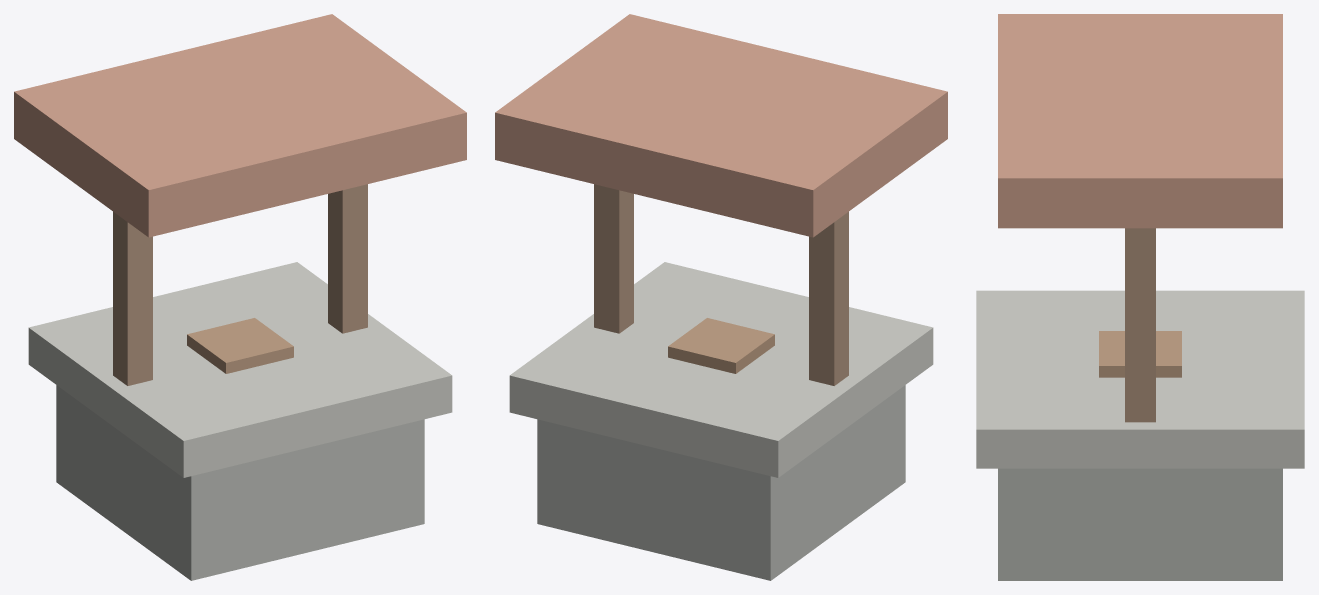
Rendered from well.glb.
3 views of the same model, side by side, from view 1: azimuth 30°, elevation 25°; view 2: azimuth 150°, elevation 25°; view 3: azimuth 270°, elevation 25° (orthographic). The views are drawn at different scales.
Visible parts, largest first — view 1: roof, well-rim, well-base, post-left, post-right, bucket; view 2: roof, well-rim, well-base, post-left, post-right, bucket; view 3: roof, well-rim, well-base, post-right, bucket.
Part boxes in pixels (<box>): roof: <box>14,14,466,237</box>; well-rim: <box>28,262,452,477</box>; well-base: <box>56,385,424,580</box>; post-left: <box>113,211,152,385</box>; post-right: <box>328,184,367,333</box>; bucket: <box>187,318,293,373</box>; roof: <box>495,14,947,237</box>; well-rim: <box>509,262,933,477</box>; well-base: <box>537,385,905,580</box>; post-left: <box>809,211,848,385</box>; post-right: <box>594,184,633,333</box>; bucket: <box>668,318,774,373</box>; roof: <box>998,14,1282,228</box>; well-rim: <box>976,290,1304,468</box>; well-base: <box>998,468,1282,580</box>; post-right: <box>1125,228,1155,422</box>; bucket: <box>1099,331,1181,377</box>.
Bounding box in the file's own units: 2.25 × 2.71 × 1.9.
